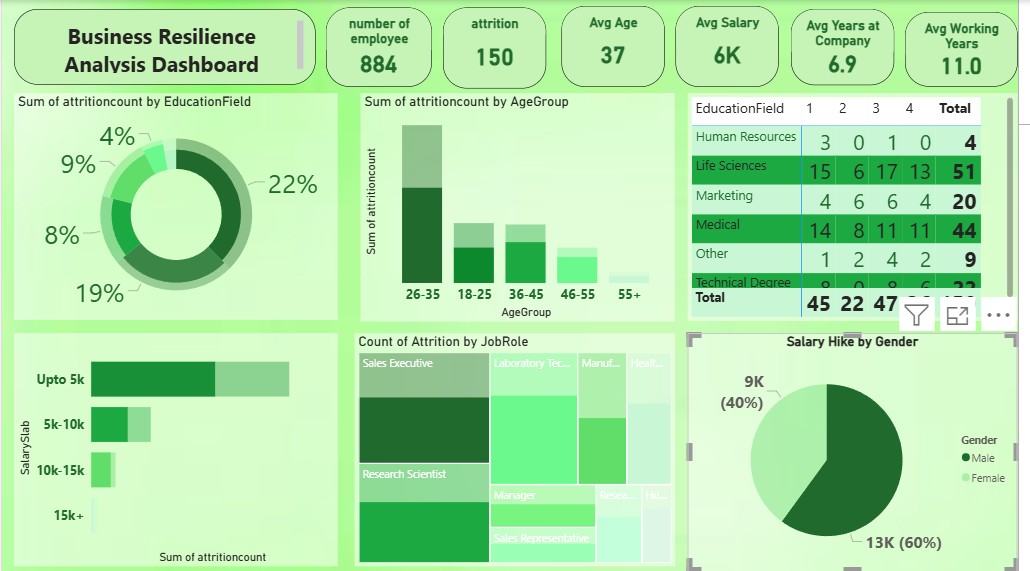

Layout of this report page (visuals, bound fields, positions):
{"tool":"powerbi","page":{"name":"Page 1","canvas":[1280,720],"ordinal":0},"visuals":[{"type":"card","title":"number of employee","fields":{"Values":["CountNonNull(HR_Analytics (2).EmpID)"]},"box":[408.3,10,133.3,100],"z":0},{"type":"card","title":"attrition","fields":{"Values":["HR_Analytics (2).ATRSUM"]},"box":[556,10,130,102],"z":1000},{"type":"card","title":"Avg Age","fields":{"Values":["Avg(HR_Analytics (2).Age)"]},"box":[705,8.3,130,101.7],"z":2000},{"type":"card","title":"Avg Salary","fields":{"Values":["Avg(HR_Analytics (2).MonthlyIncome)"]},"box":[848.3,6.7,130,101.7],"z":3000},{"type":"card","title":"Avg Years at Company","fields":{"Values":["Avg(HR_Analytics (2).YearsAtCompany)"]},"box":[994,12,130,96],"z":4000},{"type":"donutChart","fields":{"Category":["HR_Analytics (2).EducationField"],"Y":["Sum(HR_Analytics (2).attritioncount)"]},"box":[16,118,408,286],"z":5000},{"type":"columnChart","fields":{"Category":["HR_Analytics (2).AgeGroup"],"Y":["Sum(HR_Analytics (2).attritioncount)"]},"box":[452,118,396,288],"z":5001},{"type":"pivotTable","fields":{"Rows":["HR_Analytics (2).EducationField"],"Columns":["HR_Analytics (2).JobSatisfaction"],"Values":["Sum(HR_Analytics (2).attritioncount)"]},"box":[863.6,117.2,415.8,287.2],"z":5002},{"type":"barChart","fields":{"Category":["HR_Analytics (2).SalarySlab"],"Y":["Sum(HR_Analytics (2).attritioncount)"]},"box":[16,420,408,294],"z":5003},{"type":"treemap","fields":{"Group":["HR_Analytics (2).JobRole"],"Values":["CountNonNull(HR_Analytics (2).Attrition)"]},"box":[444,420,404,294],"z":5004},{"type":"pieChart","title":"Salary Hike by Gender","fields":{"Category":["HR_Analytics (2).Gender"],"Y":["Sum(HR_Analytics (2).PercentSalaryHike)"]},"box":[863.6,419.5,415.8,300.5],"z":5005},{"type":"textbox","box":[15.4,11.5,380,95.4],"z":5006},{"type":"card","title":"Avg Working Years","fields":{"Values":["Avg(HR_Analytics (2).TotalWorkingYears)"]},"box":[1138,16,142,94],"z":5007}]}

Visuals, with their boxes in screenshot pixels (x1, y1, x2, y2), scaled from the page's 1280x720 canvas onto the 1030x571 screenshot:
"number of employee" card: box=[329, 8, 436, 87]
"attrition" card: box=[447, 8, 552, 89]
"Avg Age" card: box=[567, 7, 672, 87]
"Avg Salary" card: box=[683, 5, 787, 86]
"Avg Years at Company" card: box=[800, 10, 904, 86]
donutChart - HR_Analytics (2).EducationField x Sum(HR_Analytics (2).attritioncount): box=[13, 94, 341, 320]
columnChart - HR_Analytics (2).AgeGroup x Sum(HR_Analytics (2).attritioncount): box=[364, 94, 682, 322]
pivotTable - HR_Analytics (2).EducationField x HR_Analytics (2).JobSatisfaction: box=[695, 93, 1029, 321]
barChart - HR_Analytics (2).SalarySlab x Sum(HR_Analytics (2).attritioncount): box=[13, 333, 341, 566]
treemap - HR_Analytics (2).JobRole x CountNonNull(HR_Analytics (2).Attrition): box=[357, 333, 682, 566]
"Salary Hike by Gender" pieChart: box=[695, 333, 1029, 570]
textbox: box=[12, 9, 318, 85]
"Avg Working Years" card: box=[916, 13, 1029, 87]
